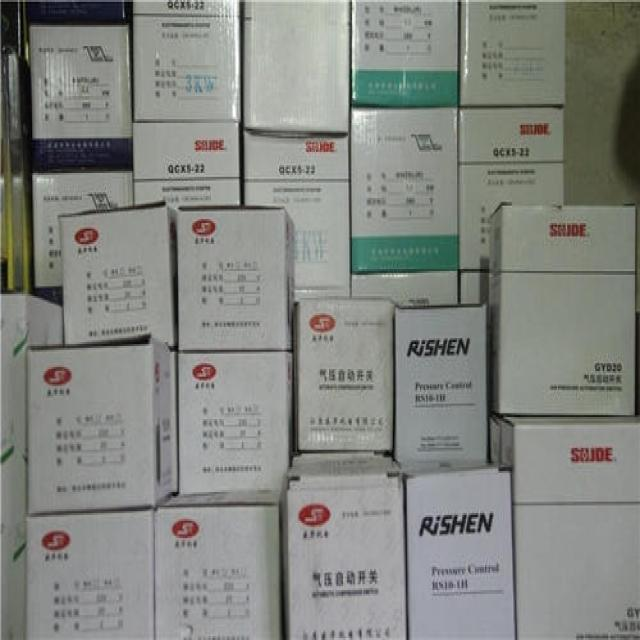box: (26, 340, 178, 515), (282, 452, 407, 638), (0, 294, 64, 640), (488, 271, 635, 417), (397, 461, 516, 638), (152, 490, 283, 640), (244, 129, 349, 304), (457, 108, 567, 269), (351, 108, 458, 273), (59, 200, 178, 348), (177, 208, 298, 350), (24, 509, 155, 640), (513, 504, 639, 638), (178, 352, 293, 494), (29, 21, 133, 173), (294, 296, 394, 452), (393, 304, 488, 463), (243, 0, 349, 135), (33, 171, 134, 309), (133, 0, 242, 123), (500, 413, 640, 502), (352, 0, 458, 108), (460, 0, 566, 108), (489, 200, 635, 273), (133, 123, 241, 209), (351, 271, 458, 306), (461, 273, 489, 304), (490, 415, 500, 461)
